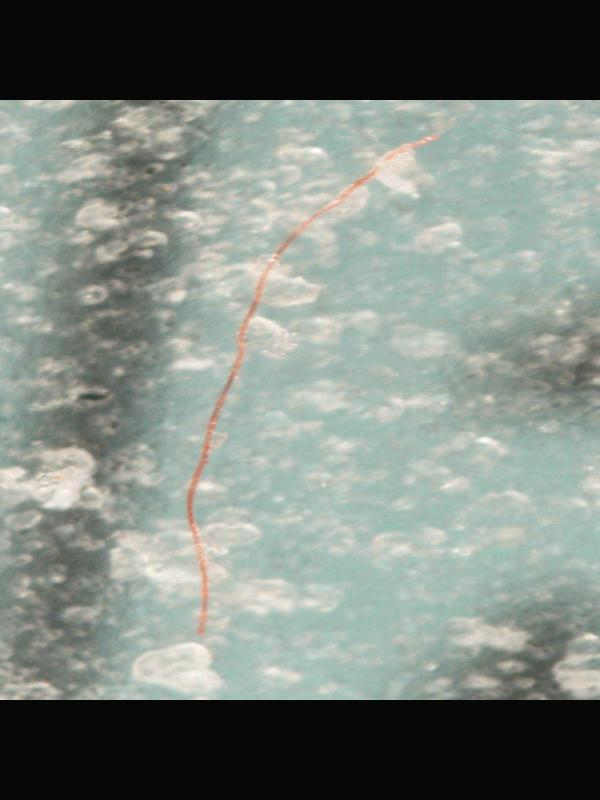microplastic: (182, 133, 445, 637)
